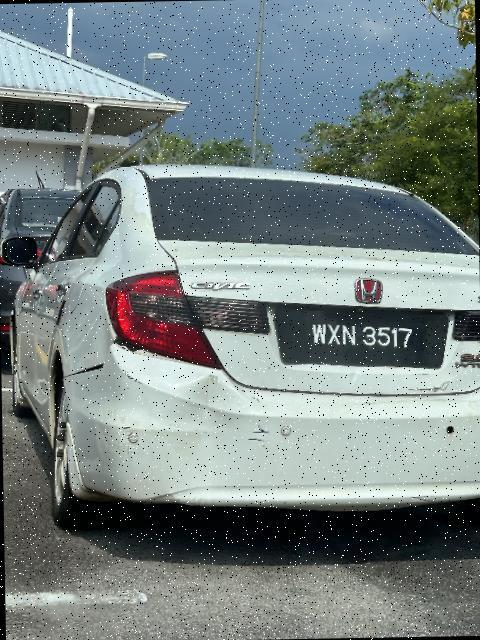License_Plate: (284, 304, 442, 370)
WXN3517: (284, 304, 442, 370)
car: (5, 162, 480, 530)
